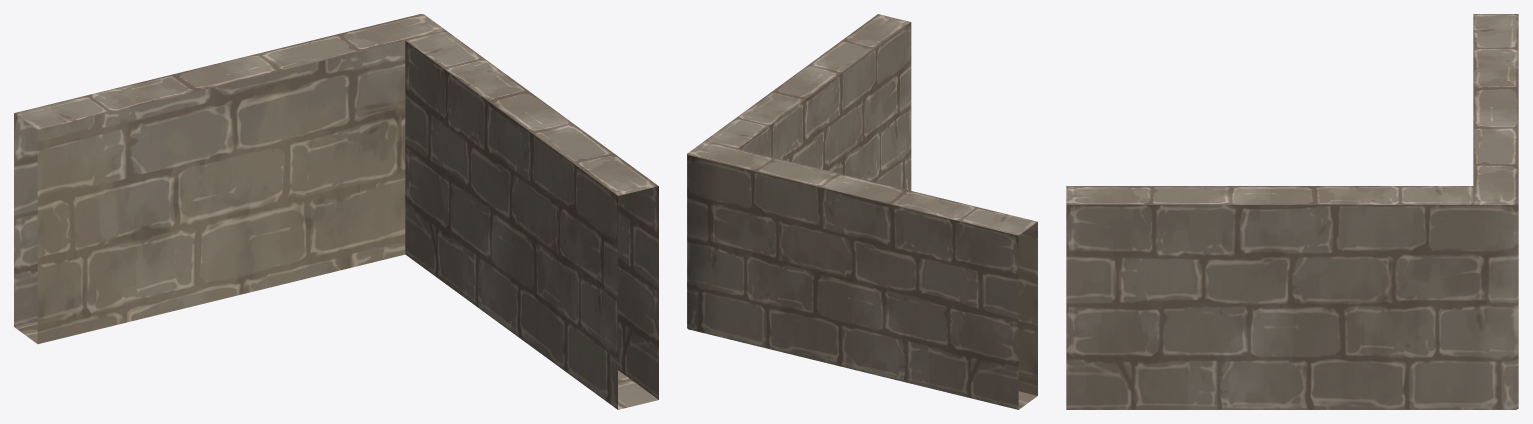
File: Stairs_Exterior_Sides45.gltf
3 views of the same model, side by side, from view 1: azimuth 30°, elevation 25°; view 2: azimuth 150°, elevation 25°; view 3: azimuth 270°, elevation 25° (orthographic). The views are drawn at different scales.
Visible parts, largest first — view 1: Stairs_Exterior_Sides45; view 2: Stairs_Exterior_Sides45; view 3: Stairs_Exterior_Sides45.
Part boxes in pixels (x1,y1,x2,y2): Stairs_Exterior_Sides45: (14, 14, 658, 409); Stairs_Exterior_Sides45: (687, 14, 1037, 409); Stairs_Exterior_Sides45: (1066, 14, 1518, 409).
Bounding box in the file's own units: 2 × 1 × 2.
Materials: 1 (1 with a texture image).
